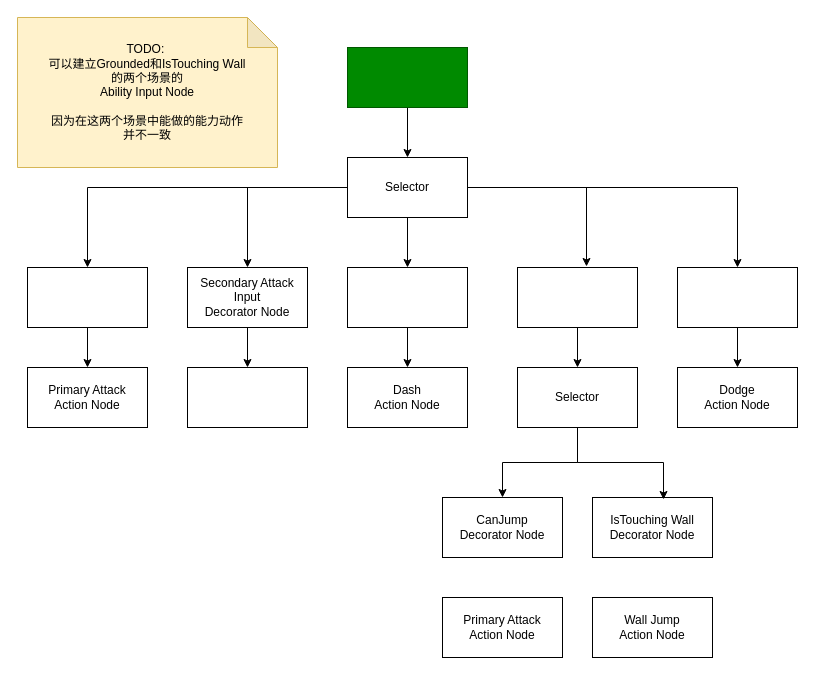
Image size: 815x675. Some labels were removed from this diagram. The box of each missing label's shape, as (x1, y1, x2, y2) in pixels:
Ability Input Decorator Node: (346, 46, 468, 108)
Dash Input Decorator Node: (346, 266, 468, 328)
Dodge Input Decorator Node: (676, 266, 798, 328)
Jump Input Decorator Node: (516, 266, 638, 328)
Primary Attack Input Decorator Node: (26, 266, 148, 328)
Secondary Attack Action Node: (186, 366, 308, 428)
